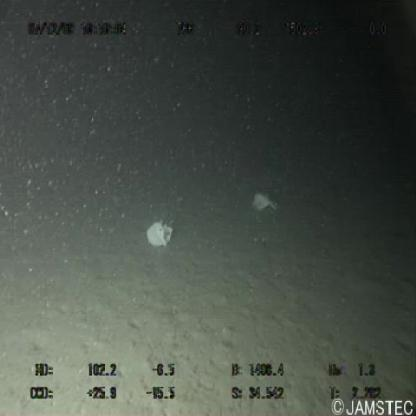Rác: (142, 216, 180, 252), (251, 190, 282, 216)
